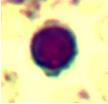lymphocyte: (29, 23, 81, 81)
